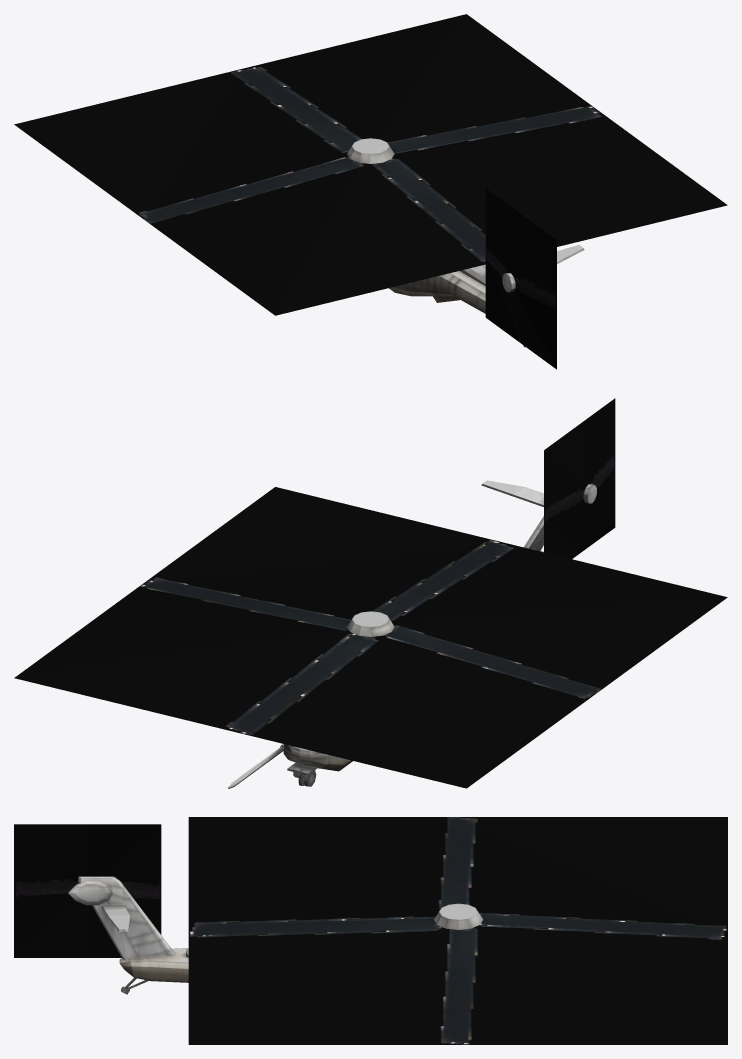
The picture shows the model from 3 angles, top to bottom: view 1: azimuth 30°, elevation 25°; view 2: azimuth 150°, elevation 25°; view 3: azimuth 270°, elevation 25°; orthographic projection. The views are drawn at different scales.
Visible parts, largest first — view 1: ch53e_rotor, ch53e_rotor_rear, hull; view 2: ch53e_rotor, ch53e_rotor_rear, hull; view 3: ch53e_rotor, ch53e_rotor_rear, hull.
Boxes of the visible parts, bbox=[...] form: ch53e_rotor: bbox=[14, 14, 727, 315]; ch53e_rotor_rear: bbox=[485, 188, 556, 369]; hull: bbox=[347, 138, 584, 347]; ch53e_rotor: bbox=[14, 487, 727, 788]; ch53e_rotor_rear: bbox=[544, 398, 615, 558]; hull: bbox=[228, 480, 596, 788]; ch53e_rotor: bbox=[188, 817, 727, 1044]; ch53e_rotor_rear: bbox=[14, 824, 161, 957]; hull: bbox=[68, 876, 482, 994].
Size of the model in its own units: 26.72 by 10.51 by 35.37.
Materials: 3 (3 with a texture image).
